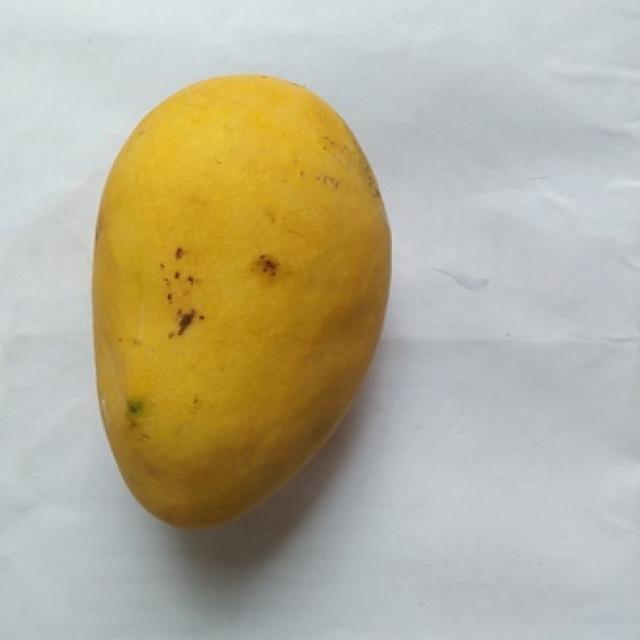Mango: (94, 77, 390, 527)
